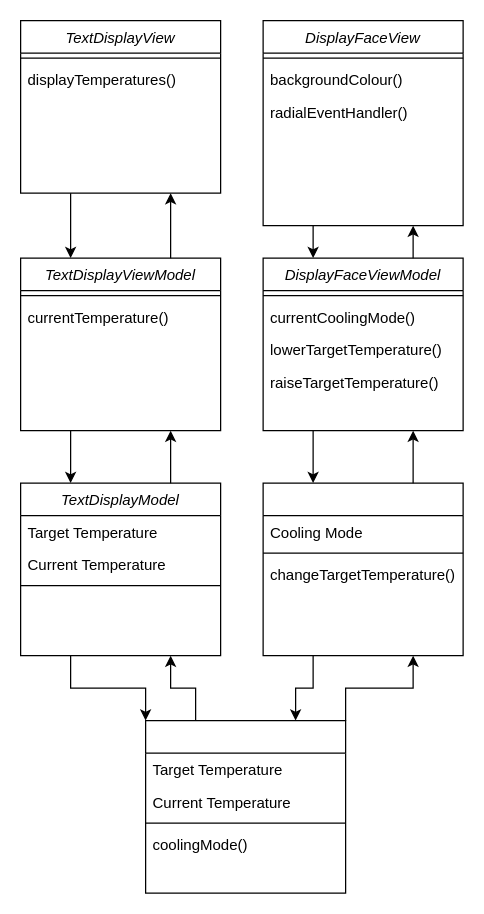
This 484x914 diagram has some shape labels left out. Each missing label, with the box of its shape:
CoolingModeModel: (144, 719, 346, 893)
DisplayFaceModel: (262, 482, 463, 656)
